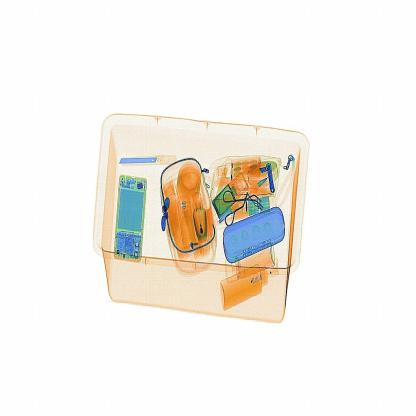pliers: (110, 142, 180, 174)
